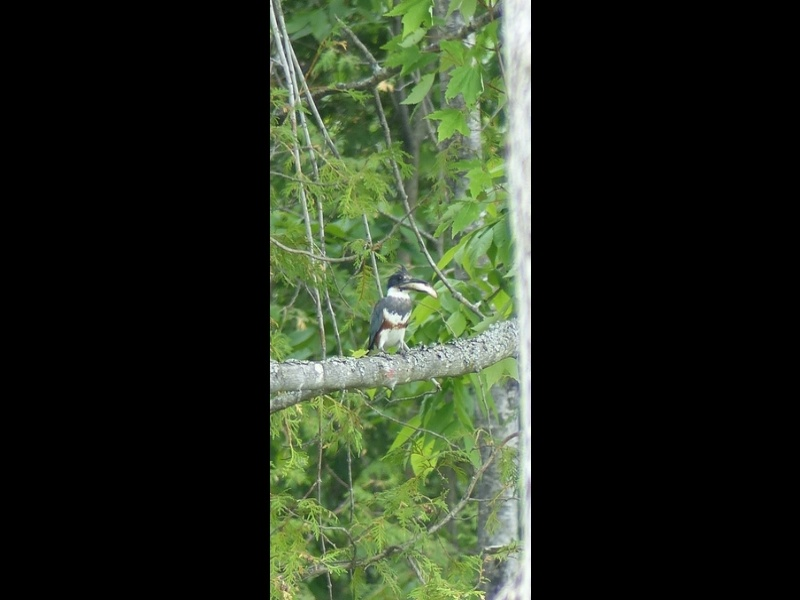kingfisher: (368, 269, 440, 365)
